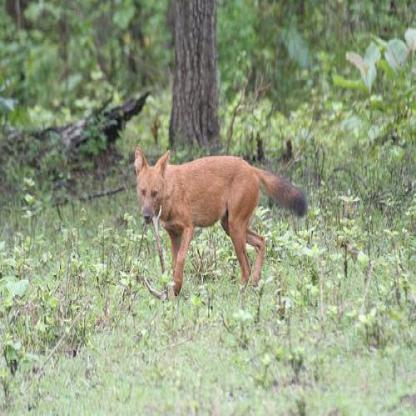dhole: (130, 140, 307, 296)
